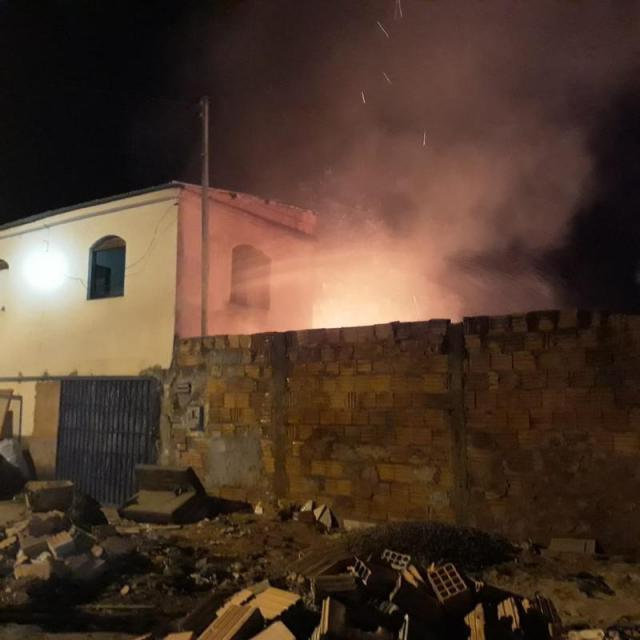Fire: (317, 296, 396, 326)
